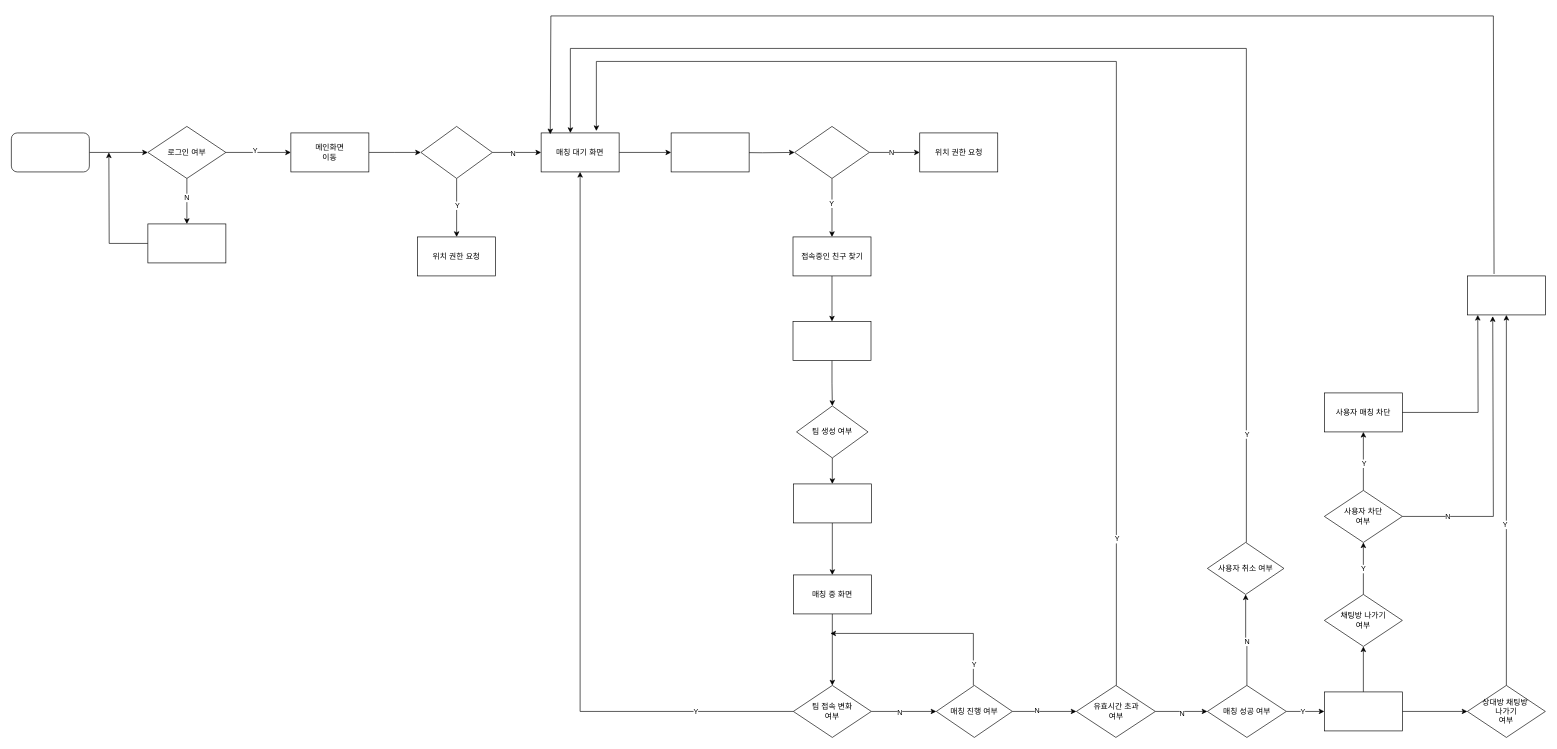
Some shapes in this 1557 by 749 pixel diagram are drawn without their labels. The shapes that lost their labels are listed below. From the top down, each one's centre as x and y in pixels, then its label:
point (50, 152): 앱 실행
point (456, 152): 최초 앱 실행 여부
point (709, 152): 매칭 시작 클릭
point (831, 152): 위치 권한 허용 여부
point (186, 243): 휴대폰 번호로 로그인
point (1506, 295): 채팅방 삭제
point (831, 340): 친구 목록에서 찾기
point (832, 503): 매칭 시작
point (1363, 711): 채팅방 생성
